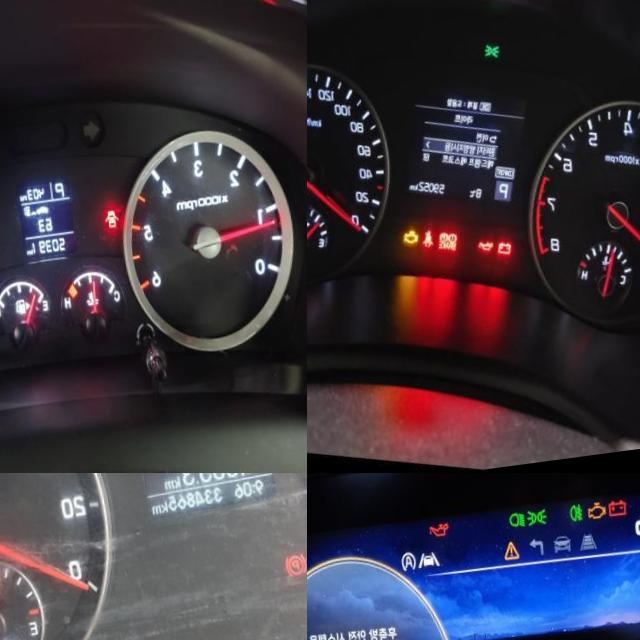Central Warning lamp: (499, 551, 516, 571)
Doors: (98, 219, 113, 237)
FrontFogLight: (565, 515, 581, 536)
LaneCenteringOff: (413, 559, 437, 577)
Low beam: (505, 522, 523, 540)
SideLamp: (523, 519, 544, 539), (478, 50, 497, 69)
